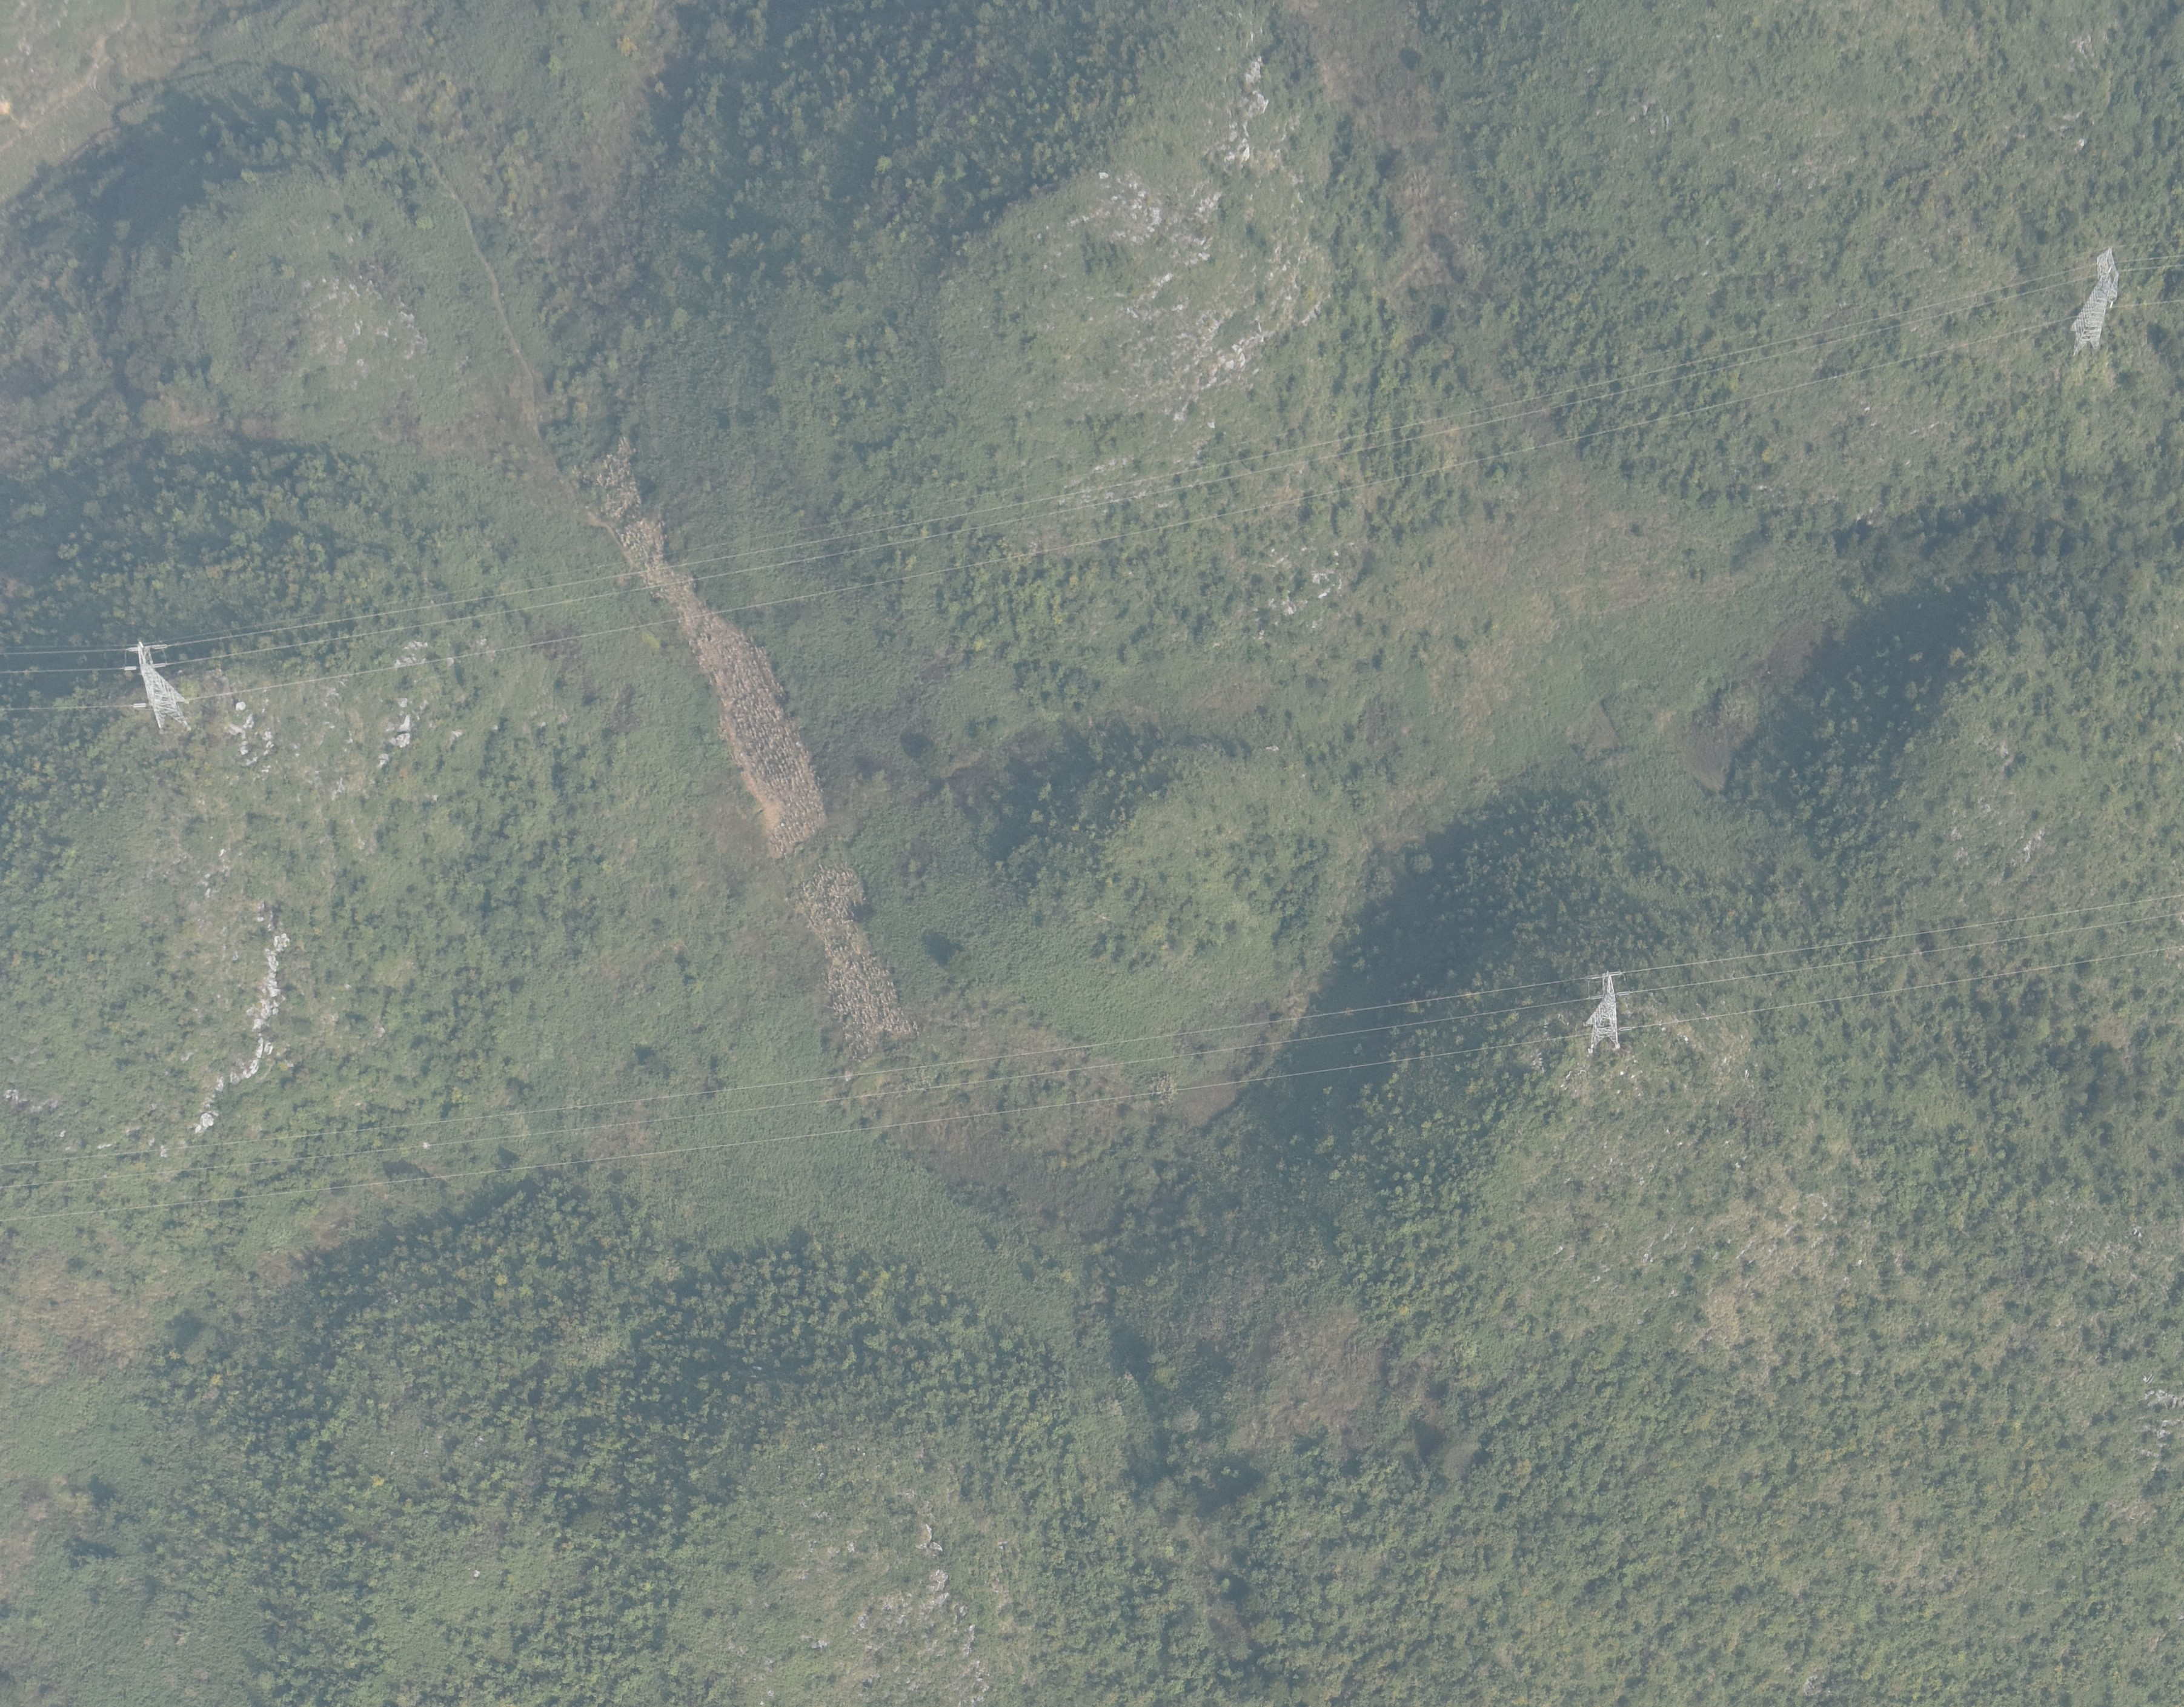cable-tower: (127, 640, 191, 731), (2070, 248, 2121, 353), (1580, 968, 1623, 1051)
